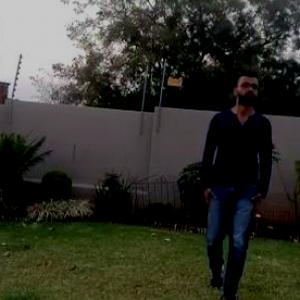follow: (186, 64, 273, 299)
